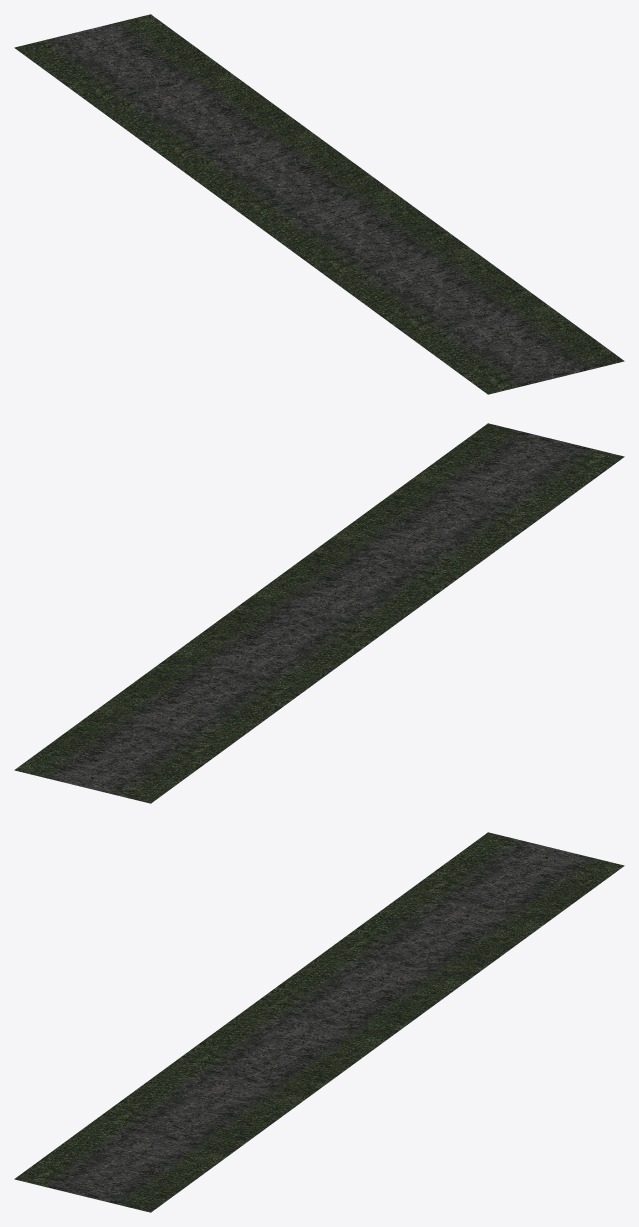
Rendered from SM_EC_Path_Mud_00.fbx.
3 renders of one model, top to bottom at view 1: azimuth 30°, elevation 25°; view 2: azimuth 150°, elevation 25°; view 3: azimuth 330°, elevation 25°, orthographic.
Parts seen in each view (by area): view 1: SM_EC_Path_Mud_00; view 2: SM_EC_Path_Mud_00; view 3: SM_EC_Path_Mud_00.
Boxes of the visible parts, x1,y1,x2,y2 form: SM_EC_Path_Mud_00: (14, 14, 624, 394); SM_EC_Path_Mud_00: (14, 423, 624, 803); SM_EC_Path_Mud_00: (14, 832, 624, 1212).
Size of the model in its own units: 3 by 18 by 0.
